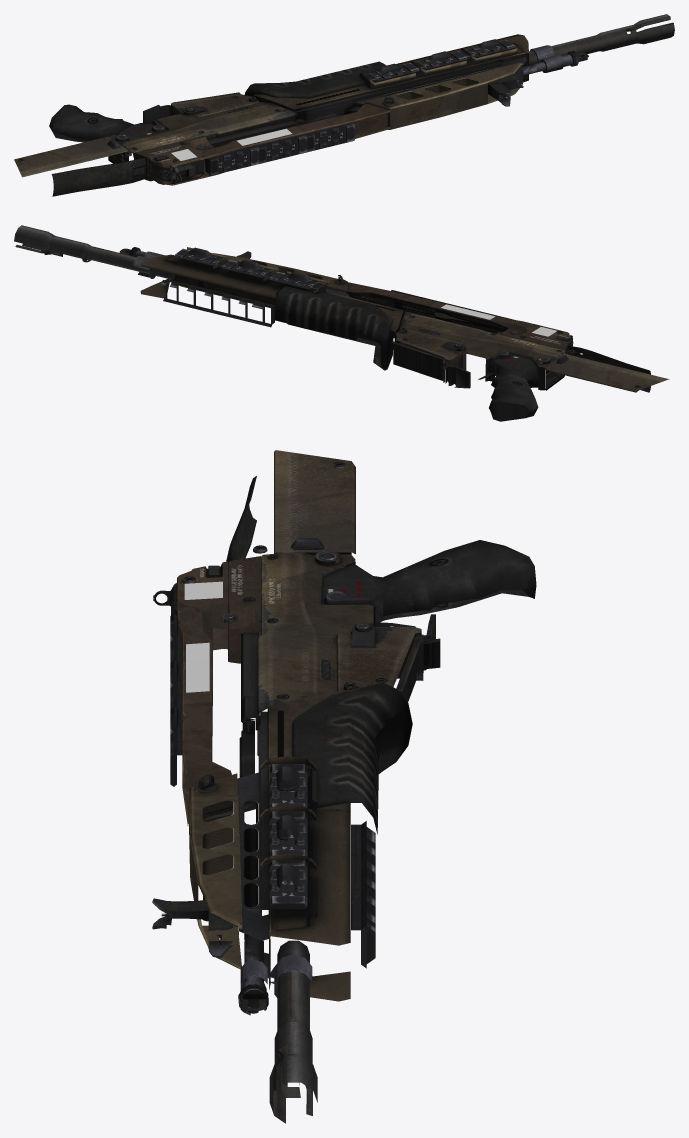
Rendered from t6_wpn_ar_xm8_view_LOD0.obj.
3 renders of one model, top to bottom at view 1: azimuth 30°, elevation 25°; view 2: azimuth 150°, elevation 25°; view 3: azimuth 270°, elevation 25°, orthographic. The views are drawn at different scales.
Parts seen in each view (by area): view 1: mtl_t6_wpn_ar_xm8_camo1, mtl_t6_wpn_ar_xm8, mtl_t6_wpn_ar_xm8_camo3, mtl_t6_wpn_ar_xm8_camo2, mtl_t6_wpn_ar_xm8_detail, mtl_clan_tag; view 2: mtl_t6_wpn_ar_xm8_camo1, mtl_t6_wpn_ar_xm8, mtl_t6_wpn_ar_xm8_camo2, mtl_t6_wpn_ar_xm8_detail, mtl_t6_wpn_ar_xm8_camo3; view 3: mtl_t6_wpn_ar_xm8_camo1, mtl_t6_wpn_ar_xm8, mtl_t6_wpn_ar_xm8_camo2, mtl_t6_wpn_ar_xm8_detail, mtl_t6_wpn_ar_xm8_camo3, mtl_clan_tag.
Part boxes in pixels (<box>): mtl_t6_wpn_ar_xm8_camo1: <box>109,34,528,185</box>; mtl_t6_wpn_ar_xm8: <box>18,17,672,196</box>; mtl_t6_wpn_ar_xm8_camo3: <box>120,14,674,181</box>; mtl_t6_wpn_ar_xm8_camo2: <box>148,61,386,173</box>; mtl_t6_wpn_ar_xm8_detail: <box>14,136,128,177</box>; mtl_clan_tag: <box>237,128,292,145</box>; mtl_t6_wpn_ar_xm8_camo1: <box>140,247,571,390</box>; mtl_t6_wpn_ar_xm8: <box>15,233,650,421</box>; mtl_t6_wpn_ar_xm8_camo2: <box>274,284,568,370</box>; mtl_t6_wpn_ar_xm8_detail: <box>546,353,669,392</box>; mtl_t6_wpn_ar_xm8_camo3: <box>14,225,583,367</box>; mtl_t6_wpn_ar_xm8_camo1: <box>177,552,421,1001</box>; mtl_t6_wpn_ar_xm8: <box>152,462,536,1115</box>; mtl_t6_wpn_ar_xm8_camo2: <box>239,632,412,834</box>; mtl_t6_wpn_ar_xm8_detail: <box>274,450,355,554</box>; mtl_t6_wpn_ar_xm8_camo3: <box>170,564,372,1123</box>; mtl_clan_tag: <box>186,642,209,692</box>.
Size of the model in its own units: 87.33 by 6.77 by 22.47.
